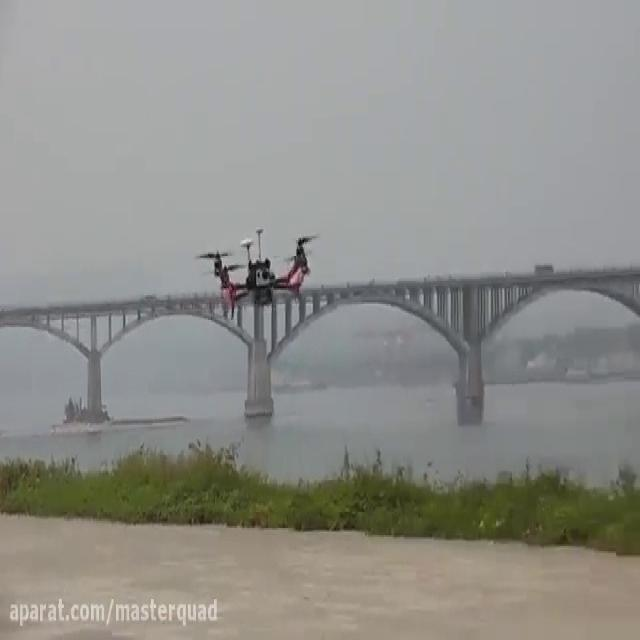drone: (192, 215, 326, 320)
